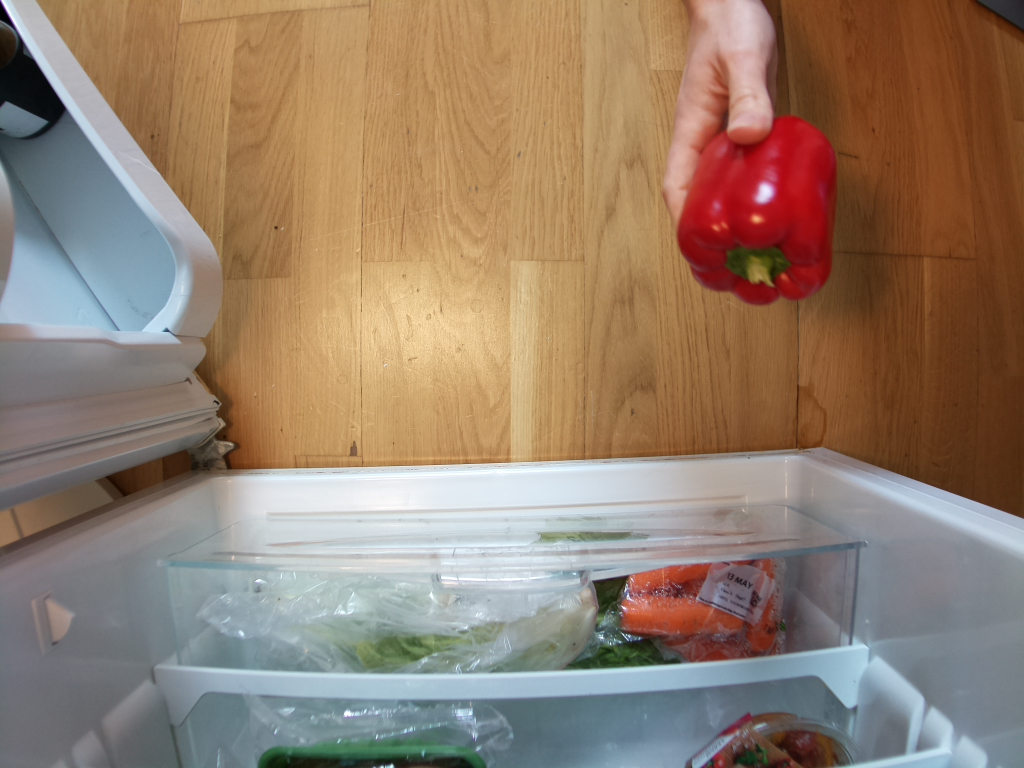pepper: (673, 115, 846, 310)
